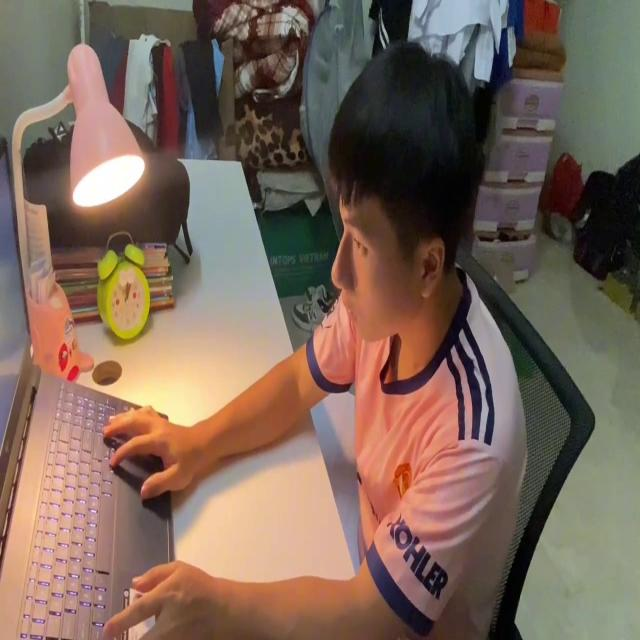book: (310, 386, 360, 578)
laptop: (0, 126, 178, 640)
student: (100, 41, 524, 640)
